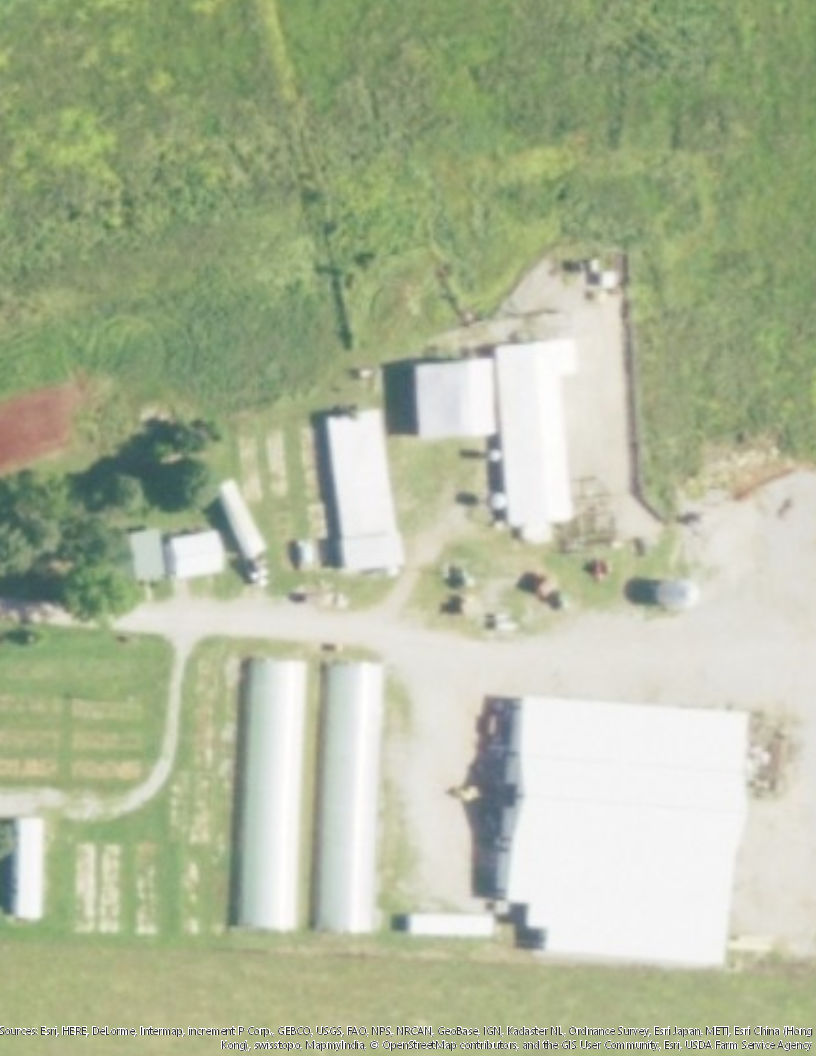cafo: (127, 283, 758, 972)
